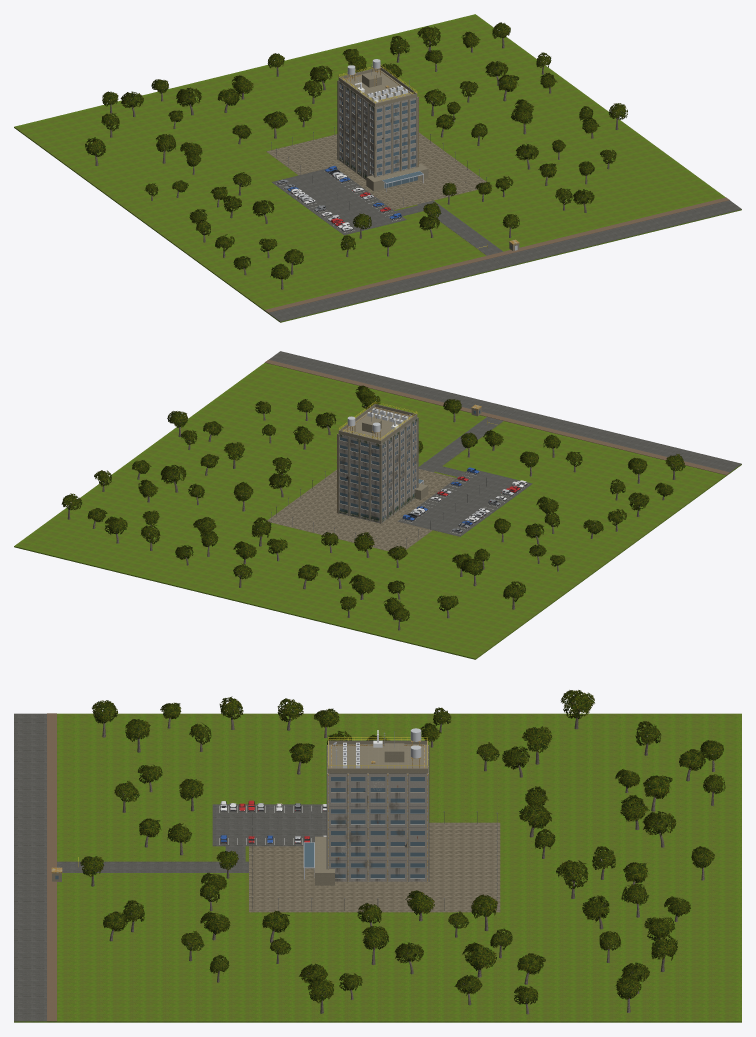
3 renders of one model, top to bottom at view 1: azimuth 30°, elevation 25°; view 2: azimuth 150°, elevation 25°; view 3: azimuth 270°, elevation 25°, orthographic. The views are drawn at different scales.
Parts seen in each view (by area): view 1: ground_lawn, road_access_and_parking, ground_plaza_around_building, facade_west_panels, facade_south_panels, sidewalk_main_road, facade_south_glass, facade_west_columns, facade_south_columns, building_roof_slab, building_podium_lobby, facade_west_glass (+1 smaller); view 2: ground_lawn, road_access_and_parking, ground_plaza_around_building, facade_west_panels, facade_north_panels, sidewalk_main_road, facade_north_glass, facade_west_columns, building_roof_slab, facade_north_columns, facade_west_glass, weathering_discoloration (+1 smaller); view 3: ground_lawn, road_access_and_parking, ground_plaza_around_building, facade_east_panels, facade_east_glass, sidewalk_main_road, building_roof_slab, facade_east_columns, building_roof_parapet, tree_site_065, facade_east_sills, building_podium_lobby (+11 smaller).
Part boxes in pixels (x1,y1,x2,y2): ground_lawn: (14, 14, 741, 322); road_access_and_parking: (268, 168, 741, 321); ground_plaza_around_building: (266, 132, 491, 209); facade_west_panels: (338, 81, 373, 179); facade_south_panels: (376, 97, 416, 176); sidewalk_main_road: (264, 197, 729, 312); facade_south_glass: (377, 100, 415, 175); facade_west_columns: (337, 81, 374, 177); facade_south_columns: (375, 97, 418, 177); building_roof_slab: (338, 70, 417, 107); building_podium_lobby: (366, 163, 428, 191); facade_west_glass: (340, 85, 373, 176); ground_lawn: (14, 363, 741, 659); road_access_and_parking: (269, 351, 741, 536); ground_plaza_around_building: (267, 469, 456, 551); facade_west_panels: (382, 418, 417, 522); facade_north_panels: (339, 434, 379, 523); sidewalk_main_road: (265, 360, 729, 475); facade_north_glass: (340, 437, 379, 520); facade_west_columns: (381, 417, 418, 523); building_roof_slab: (338, 407, 417, 444); facade_north_columns: (337, 434, 380, 523); facade_west_glass: (382, 422, 415, 519); weathering_discoloration: (339, 433, 417, 520); ground_lawn: (14, 713, 741, 1022); road_access_and_parking: (14, 713, 326, 1022); ground_plaza_around_building: (249, 822, 500, 912); facade_east_panels: (327, 773, 428, 881); facade_east_glass: (331, 777, 424, 878); sidewalk_main_road: (47, 713, 56, 1021); building_roof_slab: (328, 744, 427, 773); facade_east_columns: (328, 774, 427, 882); building_roof_parapet: (328, 740, 427, 772); tree_site_065: (560, 690, 594, 729); facade_east_sills: (330, 781, 425, 878); building_podium_lobby: (315, 836, 334, 885).
Size of the model in its own units: 220 by 46.23 by 220.
Materials: 40 (18 with a texture image).
